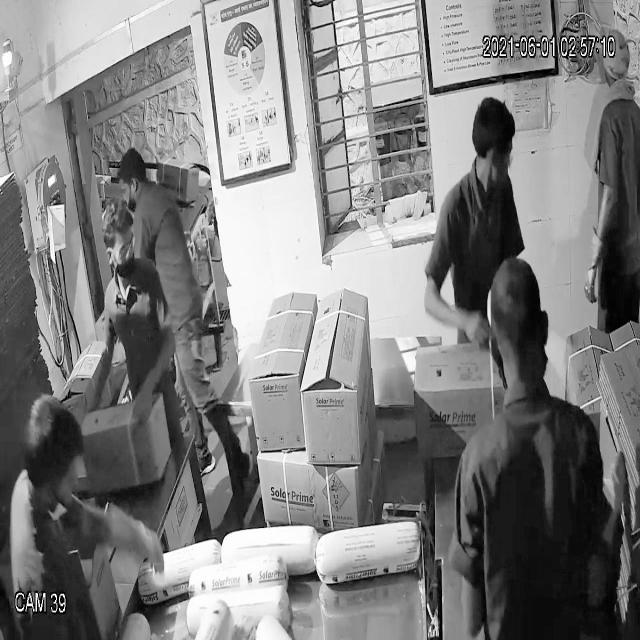glasses: (99, 228, 141, 262)
